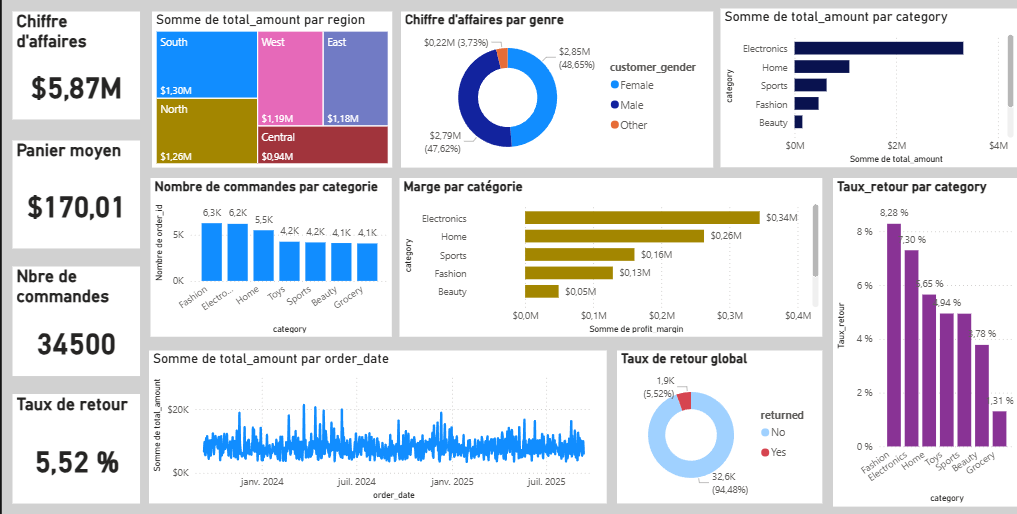

What the dashboard file says about the page in this screenshot:
{"tool":"powerbi","page":{"name":"Dashboard Exécutif","canvas":[1280,720],"ordinal":4},"visuals":[{"type":"card","title":"Chiffre d''affaires","fields":{"Values":["Sum(ecommerce_sales_34500.total_amount)"]},"box":[4.3,45.7,161.4,135.7],"z":0},{"type":"card","title":"Panier moyen","fields":{"Values":["Avg(ecommerce_sales_34500.total_amount)"]},"box":[4.3,212.9,161.4,137.1],"z":1000},{"type":"card","title":"Nbre de commandes","fields":{"Values":["Count(ecommerce_sales_34500.order_id)"]},"box":[4.3,374.3,161.4,137.1],"z":2000},{"type":"card","title":"Taux de retour","fields":{"Values":["ecommerce_sales_34500.Taux_retour"]},"box":[4.3,528.6,161.4,142.9],"z":3000},{"type":"clusteredBarChart","fields":{"Y":["Sum(ecommerce_sales_34500.total_amount)"],"Category":["ecommerce_sales_34500.category"]},"box":[891.4,45.7,382.9,200],"z":4000},{"type":"clusteredColumnChart","title":"Nombre de commandes par categorie","fields":{"Category":["ecommerce_sales_34500.category"],"Y":["Count(ecommerce_sales_34500.order_id)"]},"box":[174.3,258.6,304.3,200],"z":5000},{"type":"clusteredBarChart","title":"Marge par catégorie","fields":{"Y":["Sum(ecommerce_sales_34500.profit_margin)"],"Category":["ecommerce_sales_34500.category"]},"box":[488.6,258.6,485.7,200],"z":6000},{"type":"clusteredColumnChart","fields":{"Category":["ecommerce_sales_34500.category"],"Y":["ecommerce_sales_34500.Taux_retour"]},"box":[984.3,257.1,290,414.3],"z":7000},{"type":"donutChart","title":"Chiffre d''affaires par genre","fields":{"Category":["ecommerce_sales_34500.customer_gender"],"Y":["Sum(ecommerce_sales_34500.total_amount)"]},"box":[487.1,45.7,392.9,195.7],"z":8000},{"type":"donutChart","title":"Taux de retour global","fields":{"Category":["ecommerce_sales_34500.returned"],"Y":["CountNonNull(ecommerce_sales_34500.order_id)"]},"box":[731.4,478.6,244.3,192.9],"z":9000},{"type":"treemap","fields":{"Group":["ecommerce_sales_34500.region"],"Values":["Sum(ecommerce_sales_34500.total_amount)"]},"box":[174.3,45.7,301.4,195.7],"z":10000},{"type":"lineChart","fields":{"Y":["Sum(ecommerce_sales_34500.total_amount)"],"Category":["ecommerce_sales_34500.order_date"]},"box":[174.3,478.6,547.1,192.9],"z":10001}]}

Visuals, with their boxes on the page's 1280x720 design canvas (x1, y1, x2, y2). These are canvas units, not pixel positions in the 1017x514 screenshot, which may show the page scaled, cropped or inside an application window:
"Chiffre d''affaires" card: (4,46,166,181)
"Panier moyen" card: (4,213,166,350)
"Nbre de commandes" card: (4,374,166,511)
"Taux de retour" card: (4,529,166,672)
clusteredBarChart - Sum(ecommerce_sales_34500.total_amount) x ecommerce_sales_34500.category: (891,46,1274,246)
"Nombre de commandes par categorie" clusteredColumnChart: (174,259,479,459)
"Marge par catégorie" clusteredBarChart: (489,259,974,459)
clusteredColumnChart - ecommerce_sales_34500.category x ecommerce_sales_34500.Taux_retour: (984,257,1274,671)
"Chiffre d''affaires par genre" donutChart: (487,46,880,241)
"Taux de retour global" donutChart: (731,479,976,672)
treemap - ecommerce_sales_34500.region x Sum(ecommerce_sales_34500.total_amount): (174,46,476,241)
lineChart - Sum(ecommerce_sales_34500.total_amount) x ecommerce_sales_34500.order_date: (174,479,721,672)
